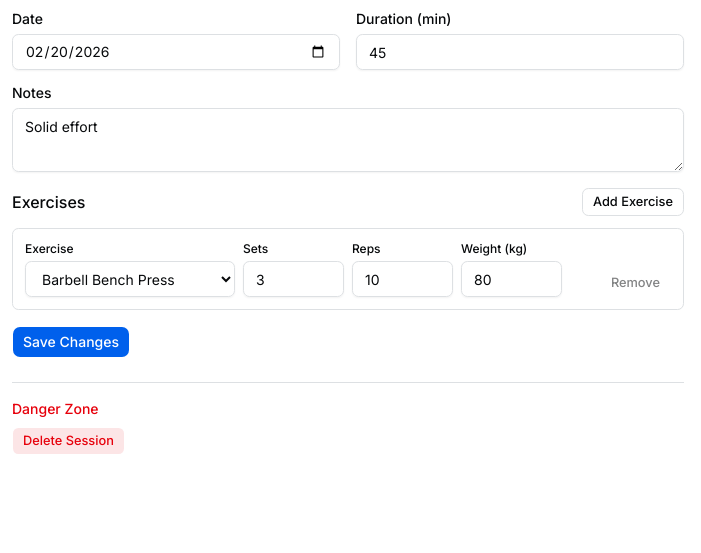
Test case: EditWorkoutSessionForm › editWorkoutSessionForm_emptyDate_showsDateValidationErrorAndDoesNotCallUpdate
This screenshot has width=701, height=553.
Clear the date field labelled "Date" at (176, 52), box [12,34,340,70]
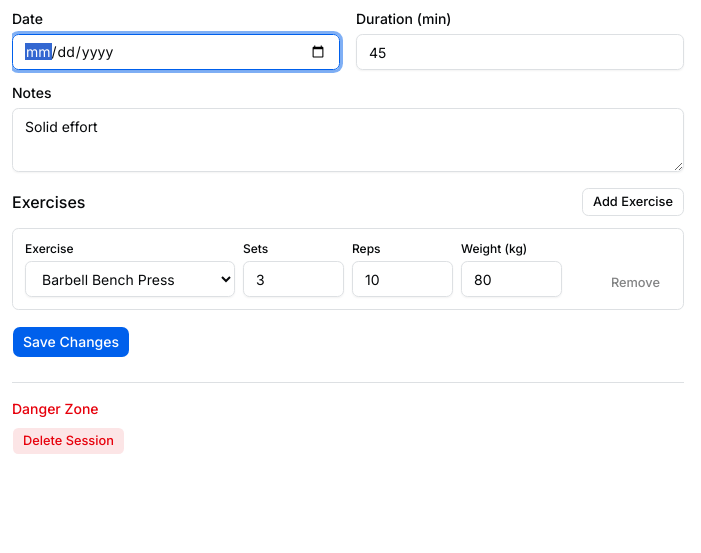
Click the button "Save Changes".
click(71, 342)  # box [12,326,130,358]
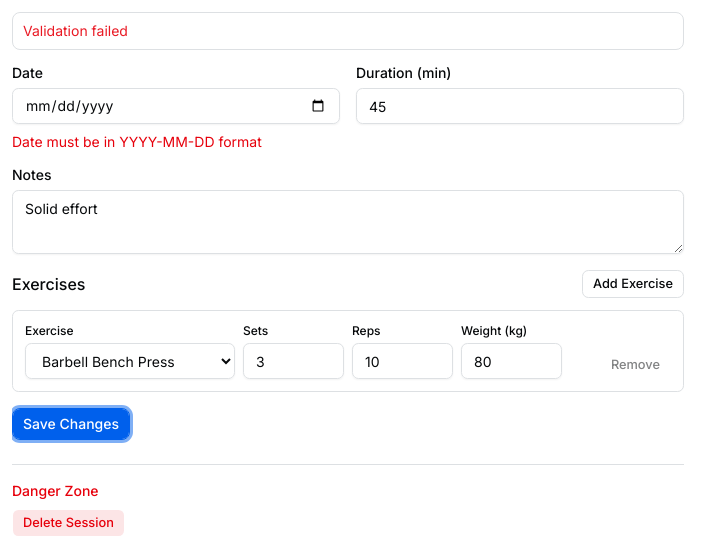
Now the text "Validation failed" is shown, box [23,22,128,39]
Now the text "Date must be in YYYY-MM-DD format" is shown, box [12,133,262,150]
